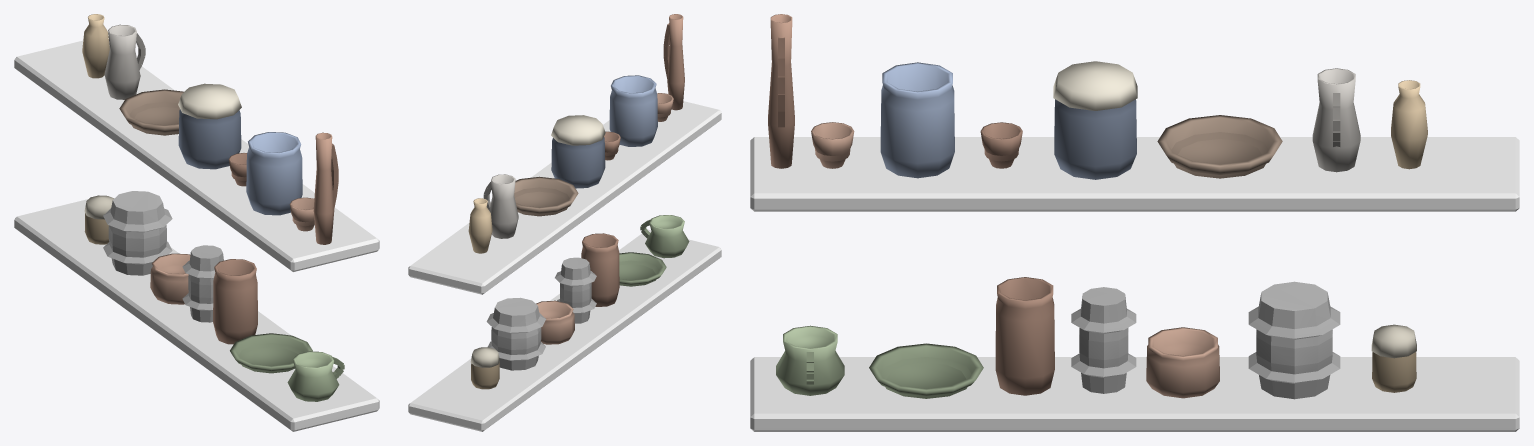
File: crock_shelf.glb
3 views of the same model, side by side, from view 1: azimuth 30°, elevation 25°; view 2: azimuth 150°, elevation 25°; view 3: azimuth 270°, elevation 25° (orthographic). The views are drawn at different scales.
Visible parts, largest first — view 1: barrel.002; view 2: barrel.002; view 3: barrel.002.
Part boxes in pixels (bbox=[...]): barrel.002: bbox=[14, 14, 379, 431]; barrel.002: bbox=[408, 14, 721, 431]; barrel.002: bbox=[750, 14, 1519, 431].
Size of the model in its own units: 0.35 by 1.05 by 1.9.
